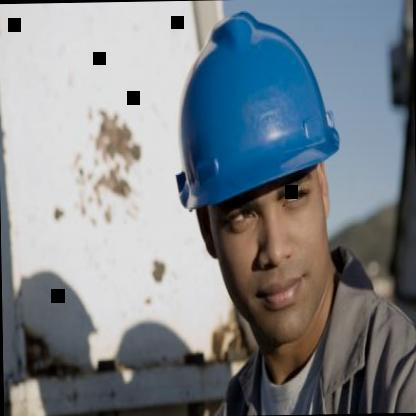helmet: (156, 0, 362, 370)
